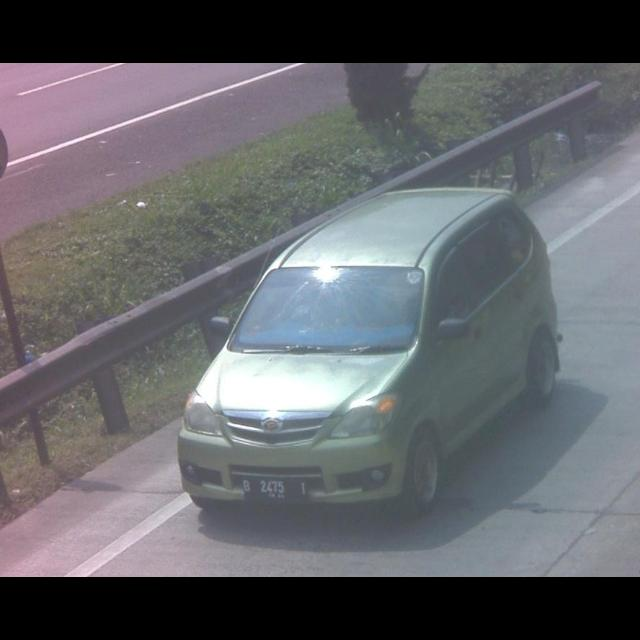plate: (238, 478, 310, 504)
